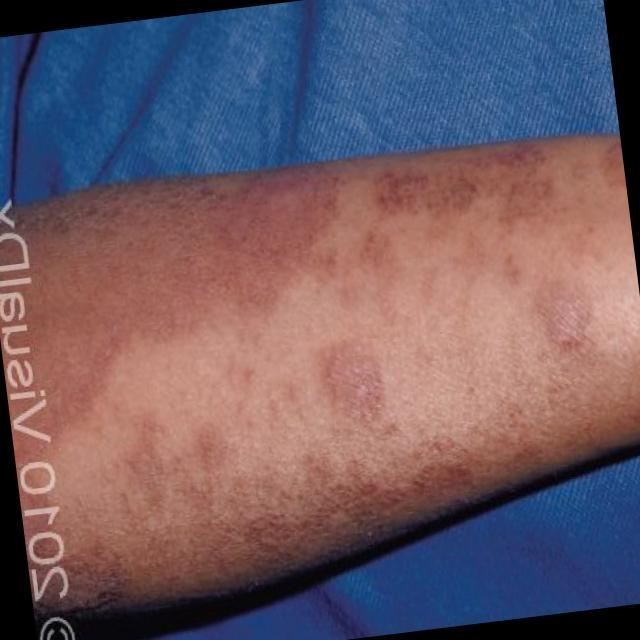Eczema: (23, 158, 576, 515)
